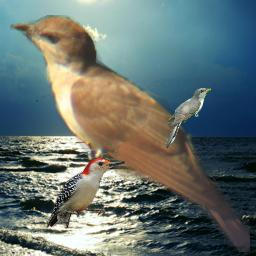Cuckoo: (10, 15, 250, 252), (165, 88, 211, 148)
Woodpecker: (46, 158, 125, 228)
